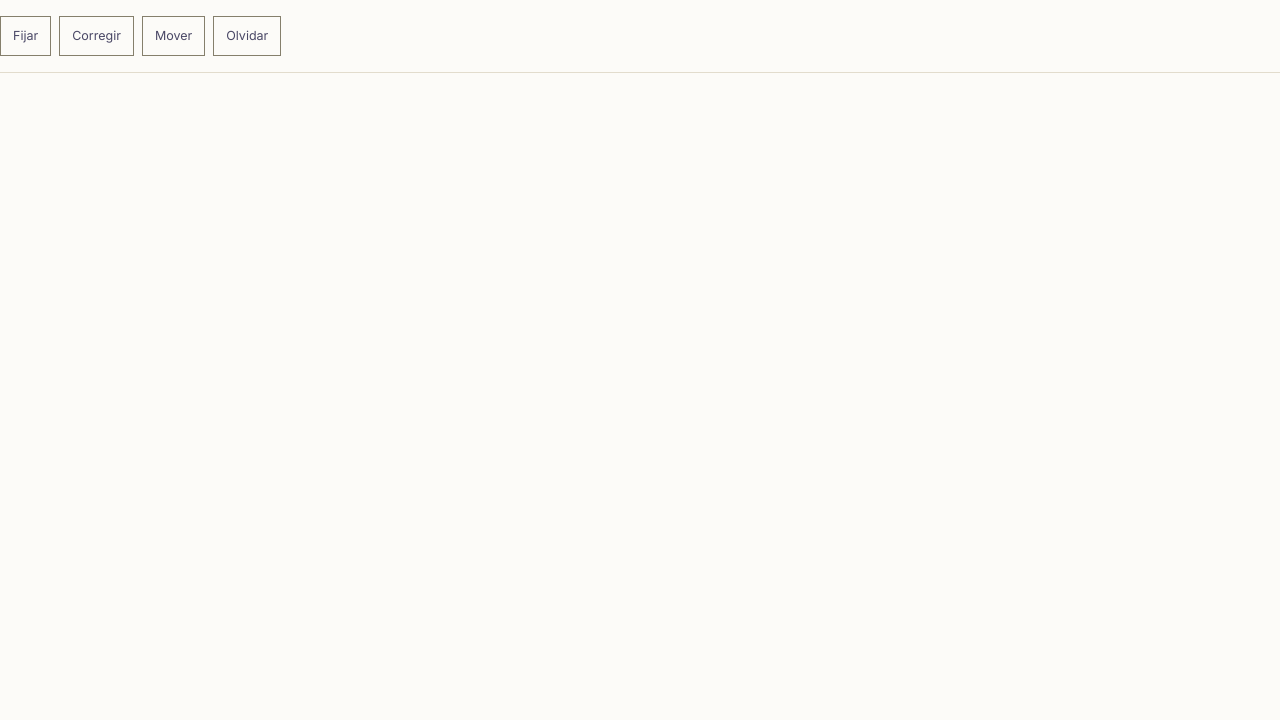
it: in Spanish
The width and height of the screenshot is (1280, 720).
Click the button "Olvidar" at [247, 36], box [213,16,281,56]
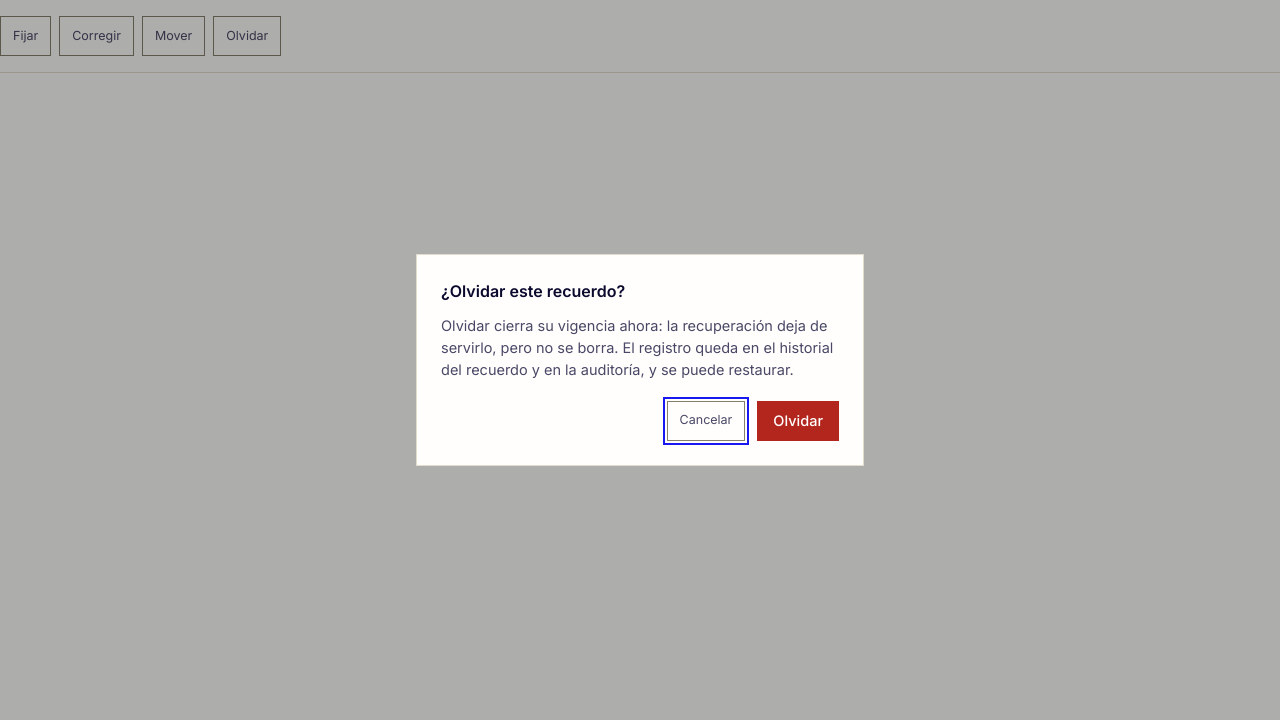
Check: the dialog "¿Olvidar este recuerdo?" shows "no se borra", box [441,317,833,378]
